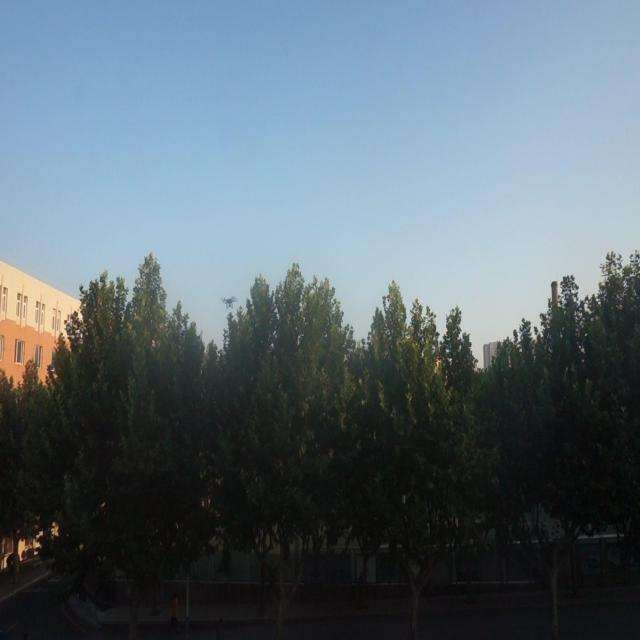UAV: (221, 296, 238, 309)
